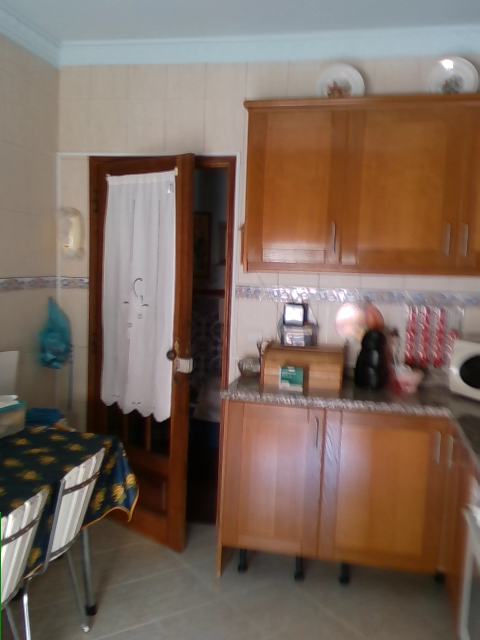semi: (87, 154, 234, 556)
